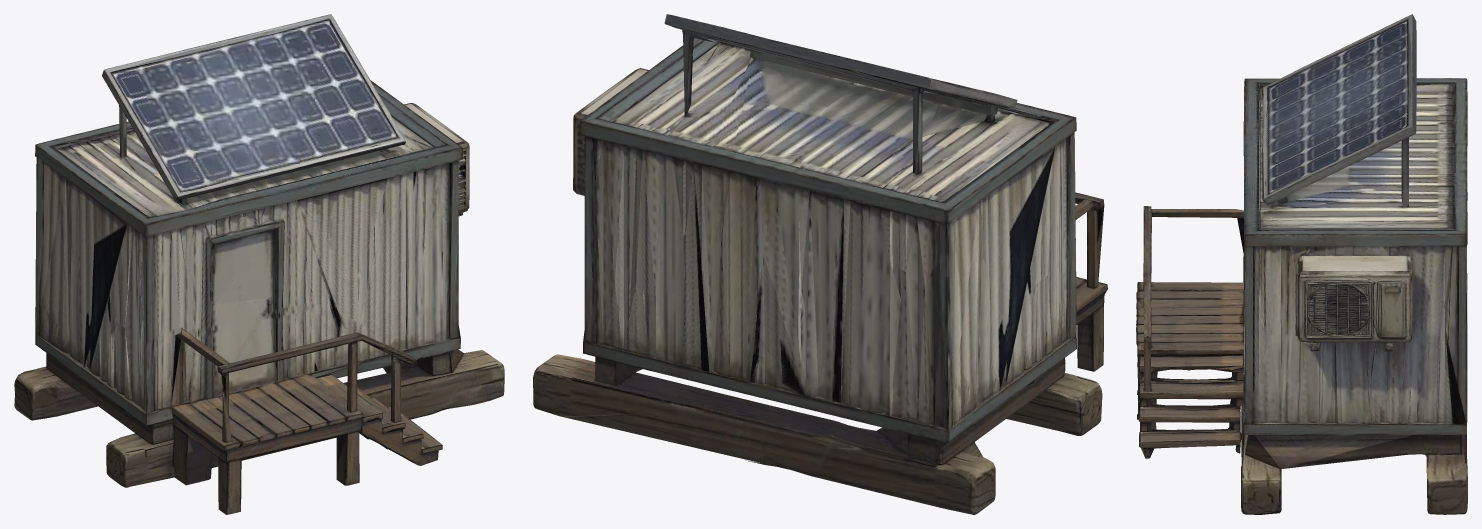
Rendered from site_office.glb.
3 views of the same model, side by side, from view 1: azimuth 30°, elevation 25°; view 2: azimuth 150°, elevation 25°; view 3: azimuth 270°, elevation 25° (orthographic). The views are drawn at different scales.
Bounding box in the file's own units: 1.9 × 1.64 × 1.42.
1 material, 1 textured.
